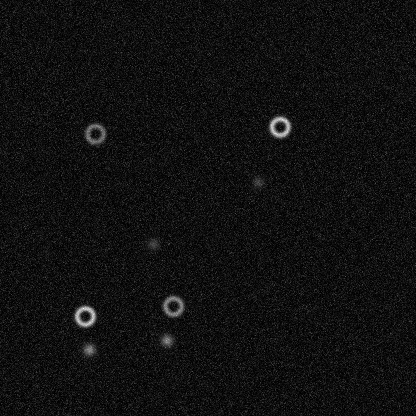Ring: (161, 294, 185, 318), (83, 121, 107, 145), (267, 114, 291, 138), (72, 304, 96, 328)
Spot: (80, 341, 96, 357), (145, 235, 161, 251), (158, 332, 174, 348), (250, 174, 266, 190)
